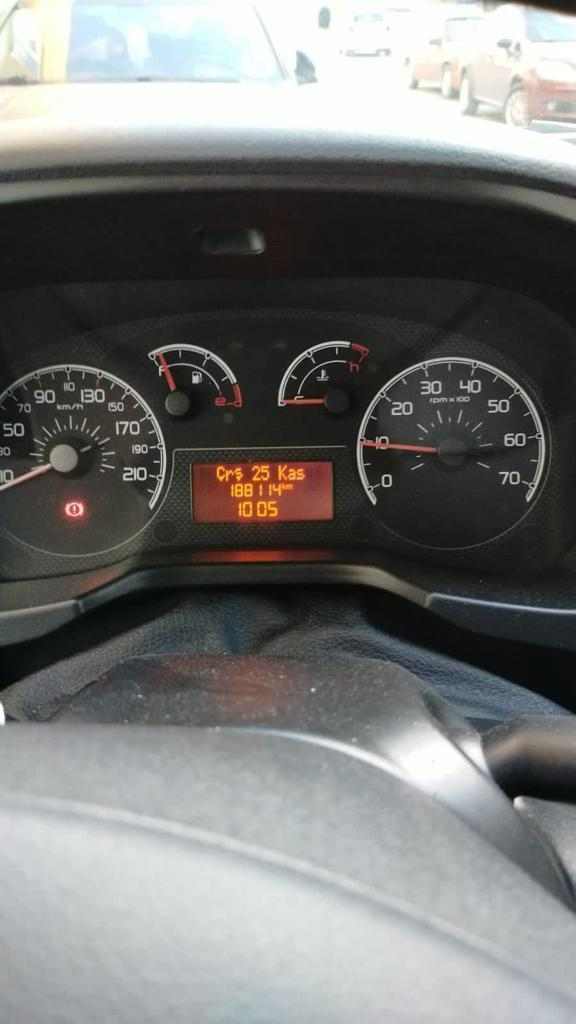0: (256, 500, 266, 517), (242, 501, 252, 517)
1: (238, 501, 242, 517), (230, 483, 234, 497), (258, 483, 262, 496), (268, 483, 272, 496)
2: (251, 466, 261, 480)
4: (272, 482, 281, 496)
5: (267, 501, 277, 516), (260, 465, 269, 480)
8: (234, 483, 243, 497), (244, 483, 252, 497)
X: (278, 463, 288, 480), (216, 466, 225, 481), (225, 469, 234, 482), (234, 467, 243, 480), (287, 468, 296, 480), (296, 468, 305, 480), (281, 482, 286, 489), (285, 484, 292, 489)
odometer: (189, 460, 335, 524)
